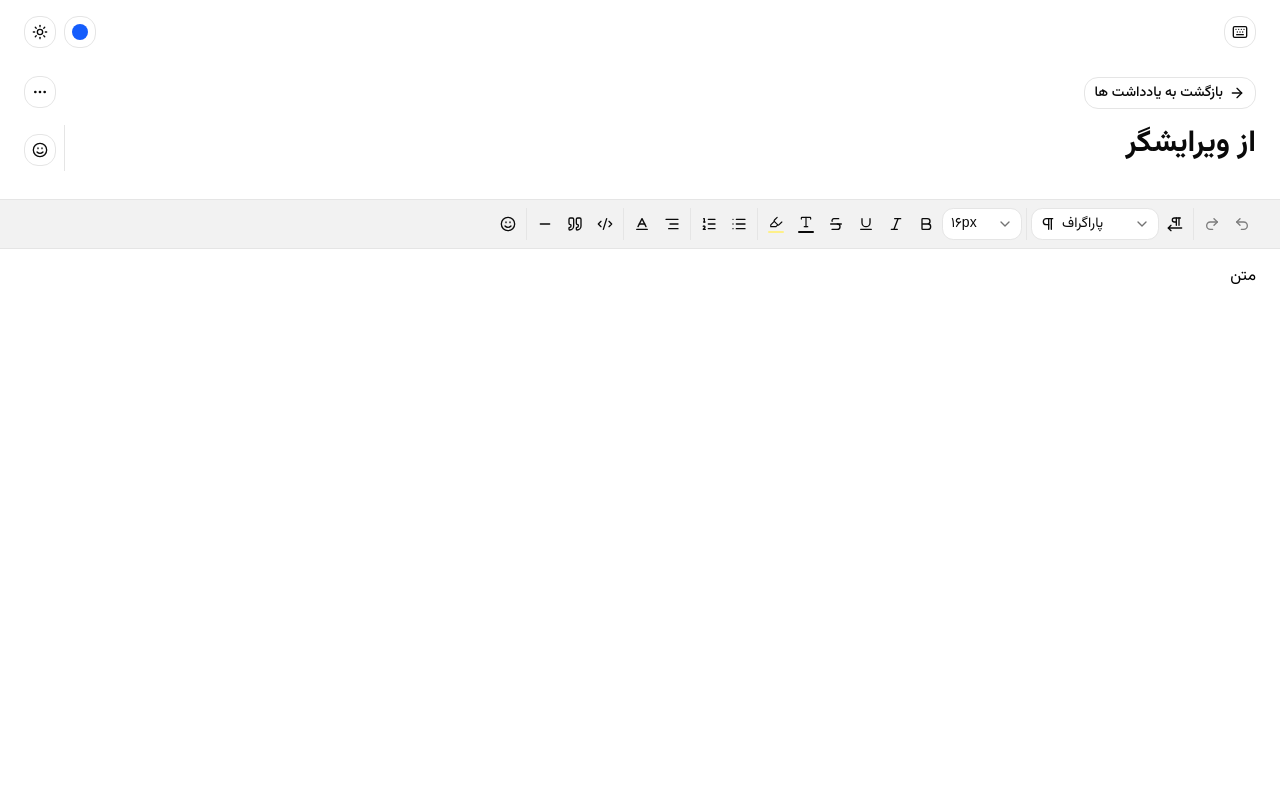
deleting from the editor menu › deletes the note and lands in the list
The image size is (1280, 800).
Expected: the field named "متن یادداشت" is shown, 1230,264 -> 1256,288
Step 1. Press the mouse on the button named "گزینه های یادداشت از ویرایشگر" → (40, 92), box 24,76 -> 56,108
Step 2. Click the button named "گزینه های یادداشت از ویرایشگر" → click(40, 92), box 24,76 -> 56,108
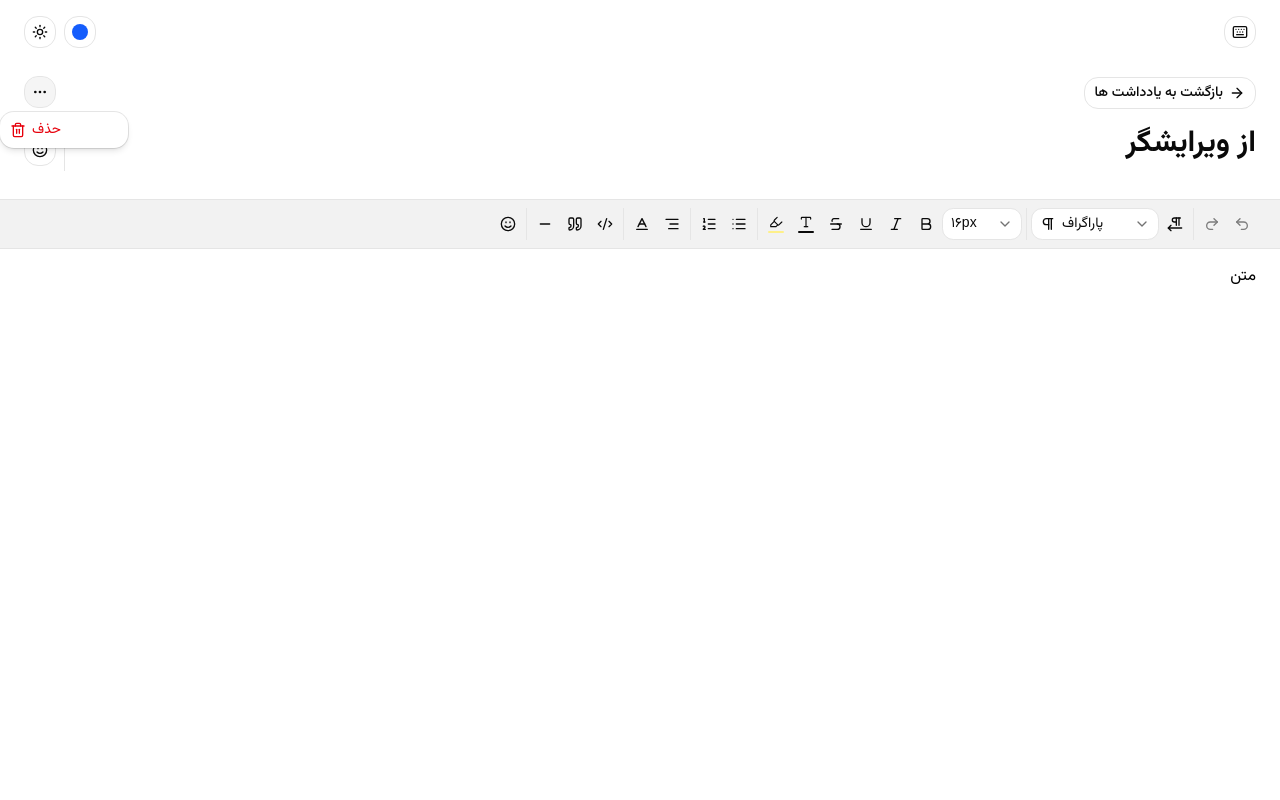
Step 3. Click the menu item "حذف" → click(36, 130), box 10,120 -> 61,140
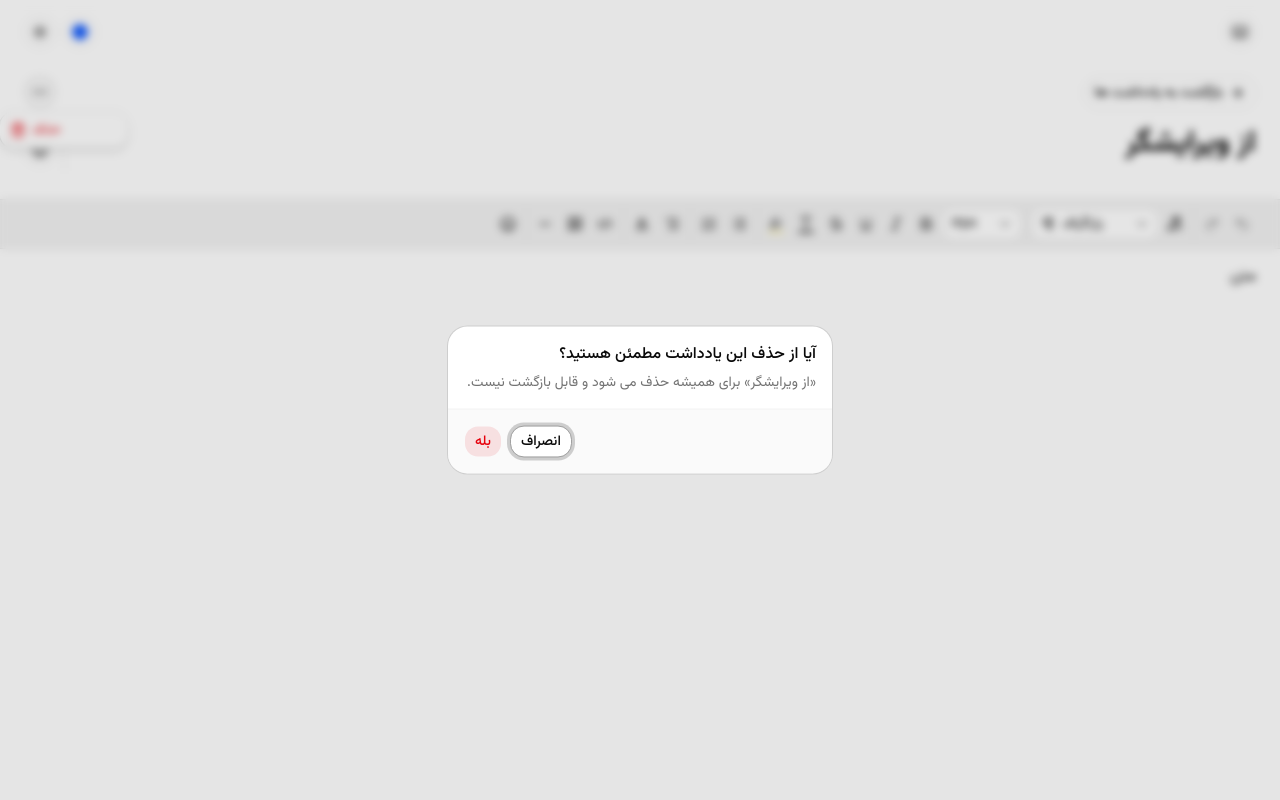
Step 4. Click the button "بله" → click(483, 442), box 464,426 -> 502,458
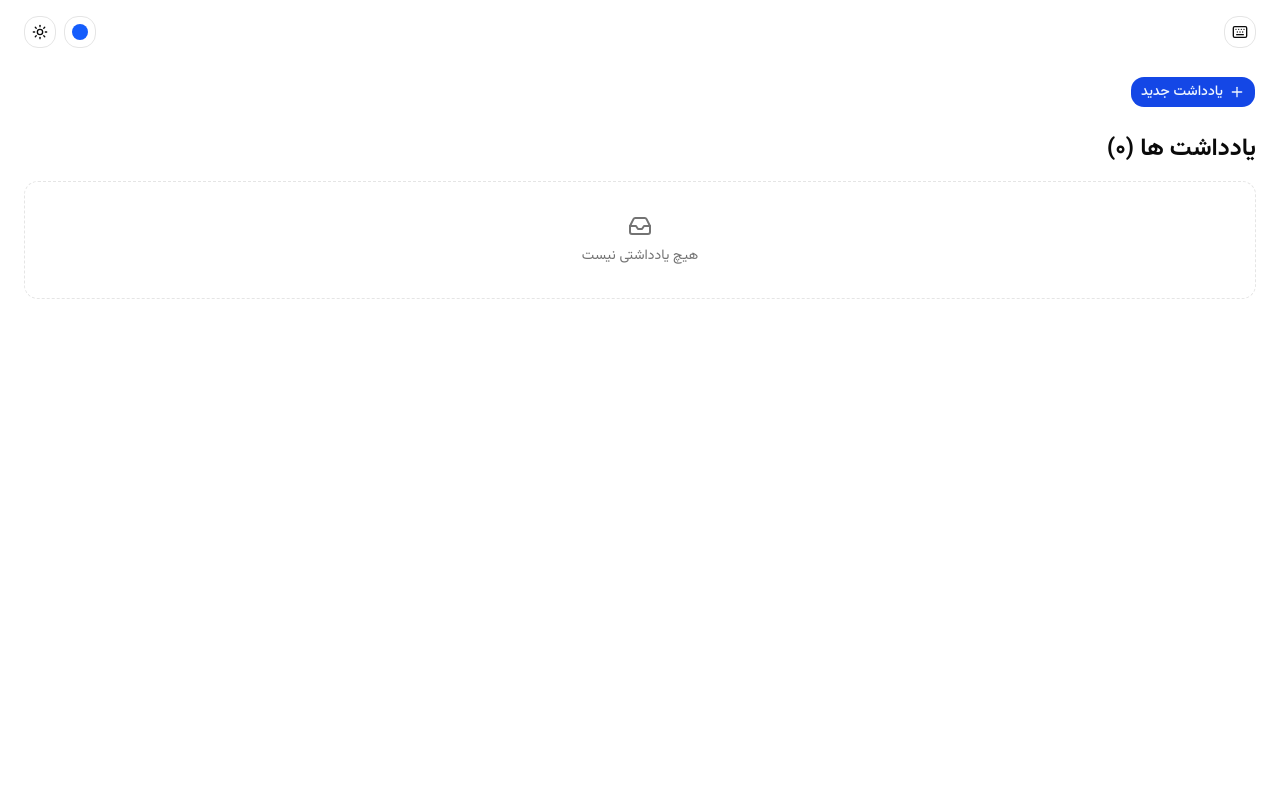
Now the button "یادداشت جدید" is shown, box 1130,76 -> 1256,108
